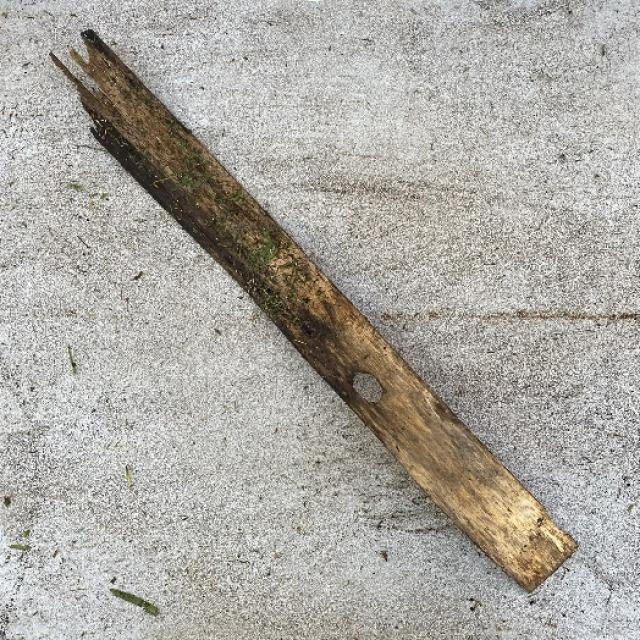organik: (52, 19, 600, 600)
